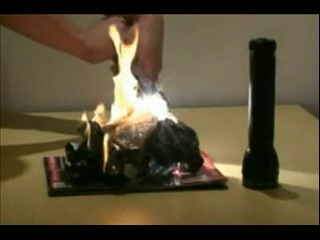fire: (81, 22, 138, 172)
smoke: (136, 70, 176, 123)
